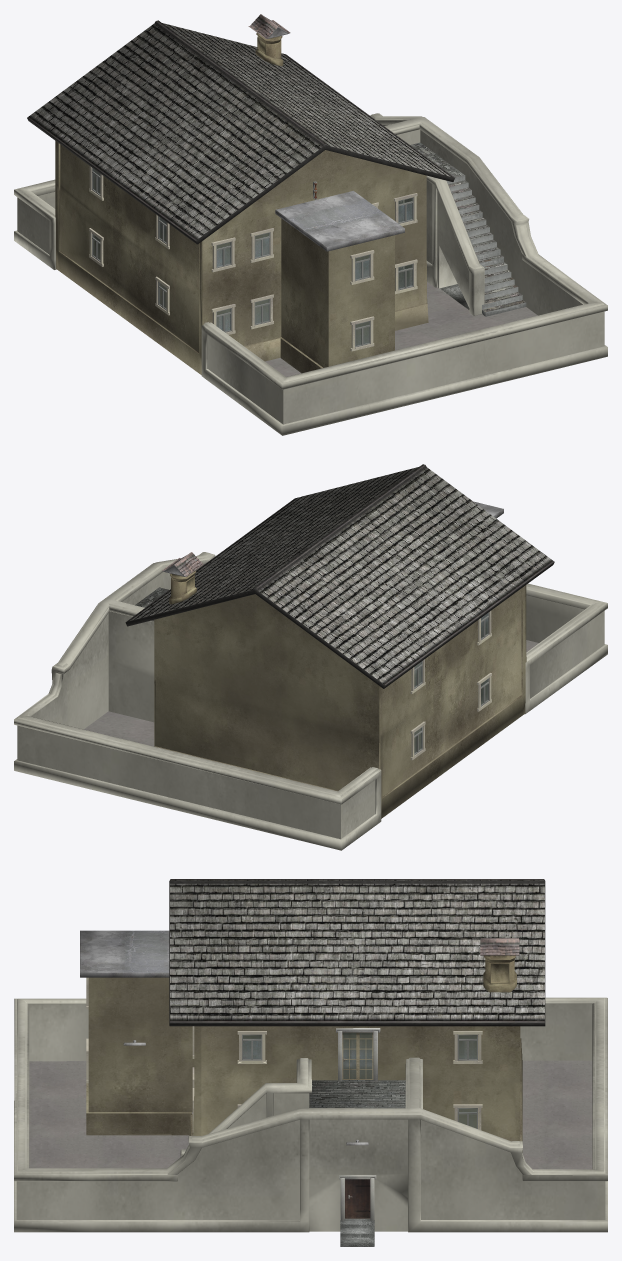
The model's file is Blocks_village5.obj.
The picture shows the model from 3 angles, top to bottom: view 1: azimuth 30°, elevation 25°; view 2: azimuth 150°, elevation 25°; view 3: azimuth 270°, elevation 25°; orthographic projection. The views are drawn at different scales.
Parts seen in each view (by area): view 1: BV_V_02, BV_V_04, BV_V_03, BV_V_06, BV_V_05, BV_V_01; view 2: BV_V_02, BV_V_04, BV_V_03, BV_V_06, BV_V_01, BV_V_05; view 3: BV_V_03, BV_V_04, BV_V_02, BV_V_06, BV_V_05, BV_V_01.
Part boxes in pixels (box(x1,y1,x2,y2)): BV_V_02: box(55, 141, 526, 374); BV_V_04: box(27, 20, 454, 251); BV_V_03: box(14, 113, 607, 435); BV_V_06: box(89, 166, 537, 376); BV_V_05: box(93, 168, 412, 345); BV_V_01: box(248, 14, 290, 66); BV_V_02: box(135, 585, 526, 818); BV_V_04: box(125, 464, 554, 688); BV_V_03: box(14, 552, 607, 850); BV_V_06: box(84, 611, 538, 760); BV_V_01: box(162, 552, 203, 604); BV_V_05: box(414, 613, 488, 753); BV_V_03: box(14, 997, 607, 1232); BV_V_04: box(80, 879, 545, 1220); BV_V_02: box(86, 977, 522, 1246); BV_V_06: box(29, 977, 592, 1169); BV_V_05: box(243, 1033, 476, 1128); BV_V_01: box(123, 938, 519, 1198).
Bounding box in the file's own units: 1746 × 970 × 2195.
